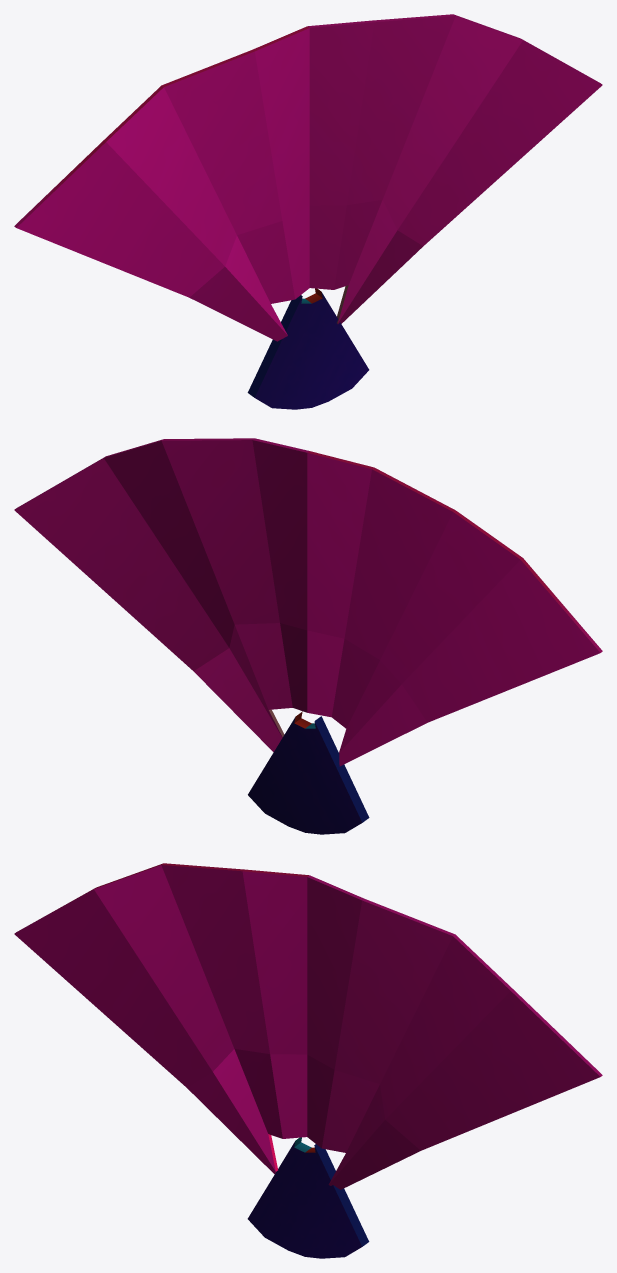
File: Abanico.fbx
The picture shows the model from 3 angles, top to bottom: view 1: azimuth 30°, elevation 25°; view 2: azimuth 150°, elevation 25°; view 3: azimuth 330°, elevation 25°; orthographic projection.
Visible parts, largest first — view 1: Abanico; view 2: Abanico; view 3: Abanico.
Part boxes in pixels (box(x1,y1,x2,y2)): Abanico: box(14, 14, 602, 409); Abanico: box(14, 438, 602, 834); Abanico: box(14, 863, 602, 1258).
Size of the model in its own units: 2.79 by 1.72 by 0.0789.
Materials: 1 (1 with a texture image).
